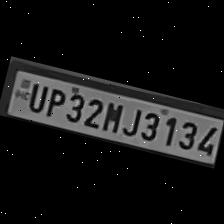1: (155, 111, 180, 146)
2: (79, 93, 106, 130)
3: (173, 115, 200, 152), (60, 88, 86, 125), (136, 106, 162, 143)
4: (192, 119, 220, 156)
J: (118, 102, 143, 138)
M: (98, 96, 126, 134)
P: (41, 83, 67, 120)
U: (22, 78, 47, 114)
